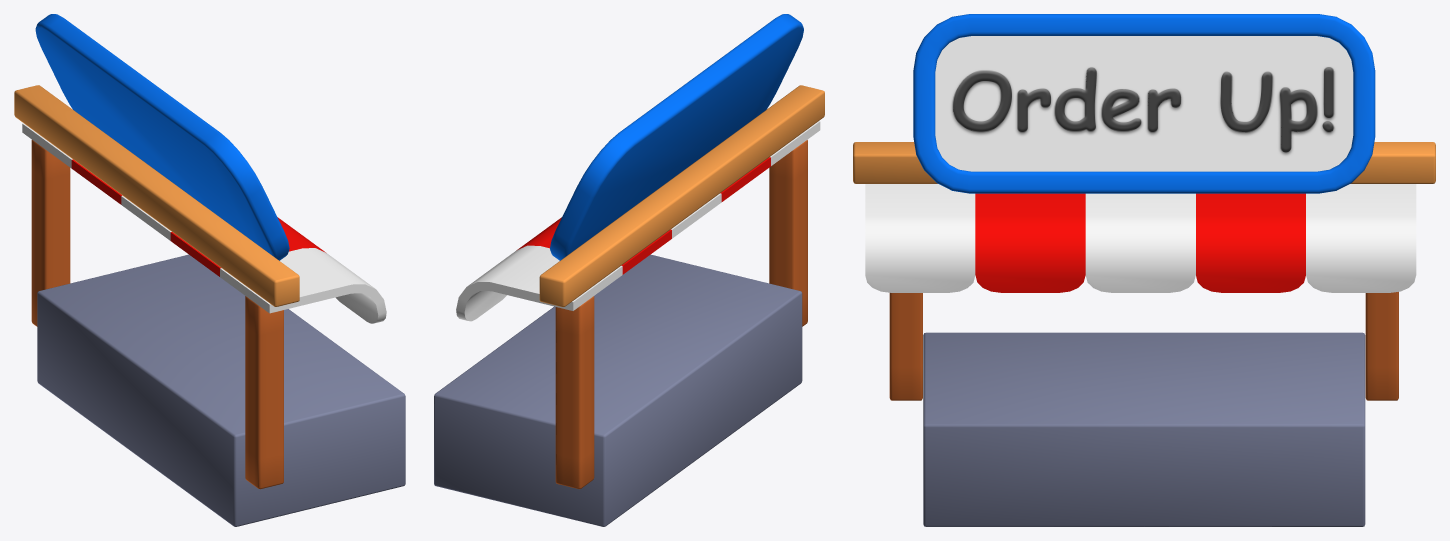
File: SM_Order_Up.fbx
3 renders of one model, left to right at view 1: azimuth 30°, elevation 25°; view 2: azimuth 150°, elevation 25°; view 3: azimuth 270°, elevation 25°, orthographic. The views are drawn at different scales.
Parts seen in each view (by area): view 1: Order_Up; view 2: Order_Up; view 3: Order_Up.
Part boxes in pixels (x1,y1,x2,y2): Order_Up: (14, 14, 405, 526); Order_Up: (434, 14, 824, 526); Order_Up: (853, 14, 1435, 526).
Size of the model in its own units: 185 by 370 by 462.
